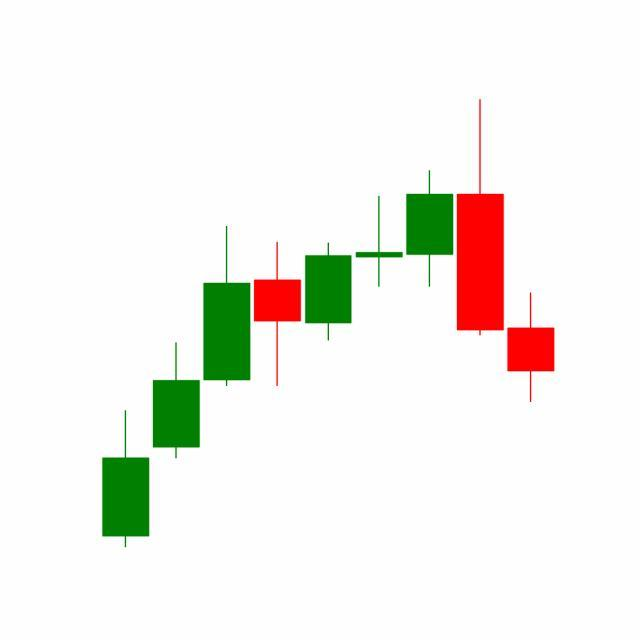Hikkake Pattern: (302, 99, 555, 407)
